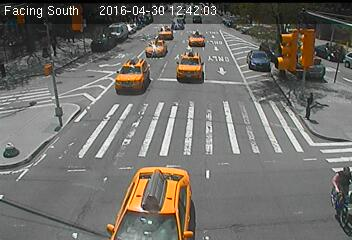neg: (158, 164, 200, 220), (86, 151, 124, 202), (32, 86, 62, 125), (255, 45, 279, 78), (259, 87, 282, 118), (58, 82, 78, 109), (202, 29, 217, 49), (104, 45, 115, 58), (87, 52, 97, 66), (177, 36, 185, 47)
pos: (320, 162, 351, 230), (300, 88, 324, 120), (46, 37, 62, 58), (65, 34, 73, 44), (70, 35, 78, 45)
